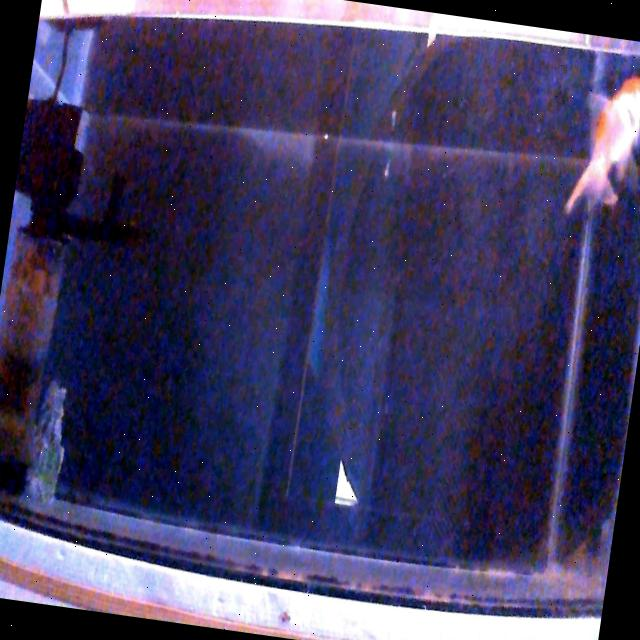fish: (565, 77, 640, 213)
